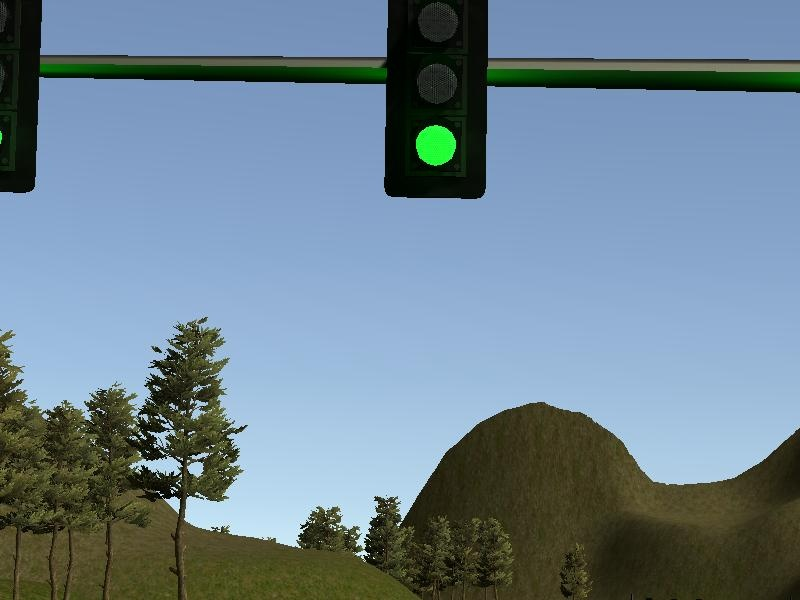green: (379, 1, 491, 200)
